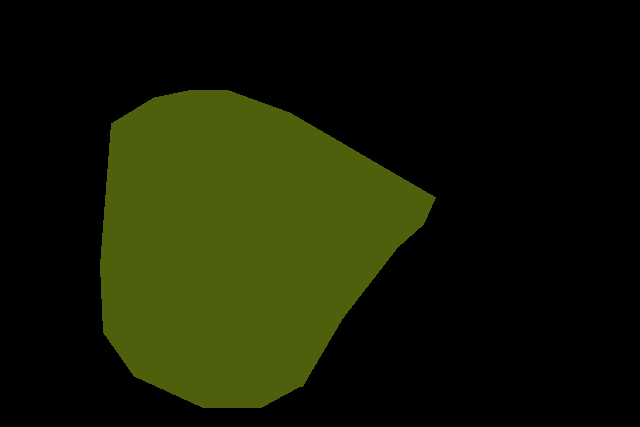Train: (100, 90, 435, 408)
